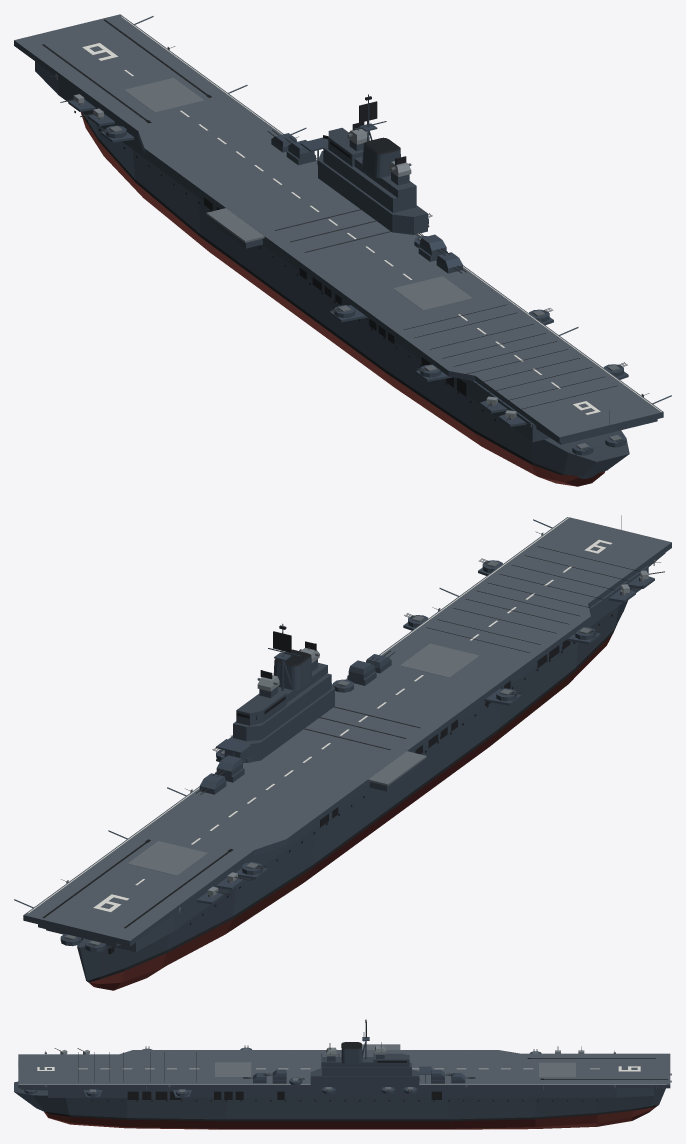
The model's file is essex.glb.
3 views of the same model, one above another, from view 1: azimuth 30°, elevation 25°; view 2: azimuth 150°, elevation 25°; view 3: azimuth 270°, elevation 25° (orthographic). The views are drawn at different scales.
Visible parts, largest first — view 1: Flight deck, Hull, Hangar, Island 1, Gallery, Island 2, Fwd lift, Aft lift, Arresting wires, Deck markings, Deck-edge lift, Hangar openings (+2 smaller); view 2: Flight deck, Hull, Hangar, Gallery, Island 1, Island 2, Fwd lift, Aft lift, Arresting wires, Deck markings, Bridge, Deck-edge lift (+2 smaller); view 3: Hull, Flight deck, Hangar, Gallery, Island 1, Deck markings, Island 2, Hangar openings, Fwd lift, Aft lift, Bridge, Flag bridge (+4 smaller).
Part boxes in pixels (box(x1,y1,x2,y2)): Flight deck: box(14, 14, 663, 439); Hull: box(80, 112, 629, 486); Hangar: box(35, 61, 549, 442); Island 1: box(318, 151, 427, 234); Gallery: box(14, 42, 663, 442); Island 2: box(323, 141, 416, 212); Fwd lift: box(124, 78, 204, 112); Aft lift: box(393, 276, 472, 310); Arresting wires: box(403, 304, 617, 410); Deck markings: box(121, 16, 661, 411); Deck-edge lift: box(206, 208, 264, 242); Hangar openings: box(204, 197, 466, 396); Flight deck: box(23, 517, 671, 943); Hull: box(77, 600, 627, 990); Hangar: box(46, 566, 648, 952); Gallery: box(23, 545, 671, 946); Island 1: box(224, 683, 334, 763); Island 2: box(233, 673, 331, 741); Fwd lift: box(128, 841, 207, 875); Aft lift: box(400, 643, 479, 677); Arresting wires: box(426, 546, 640, 652); Deck markings: box(28, 517, 571, 913); Bridge: box(236, 691, 286, 725); Deck-edge lift: box(368, 751, 426, 785); Hull: box(14, 1081, 665, 1129); Flight deck: box(18, 1050, 670, 1085); Hangar: box(48, 1088, 654, 1097); Gallery: box(18, 1086, 670, 1088); Island 1: box(310, 1068, 419, 1087); Deck markings: box(19, 1068, 666, 1084); Island 2: box(322, 1062, 411, 1075); Hangar openings: box(127, 1091, 441, 1099); Fwd lift: box(539, 1062, 575, 1077); Aft lift: box(215, 1062, 251, 1076); Bridge: box(373, 1053, 409, 1066); Flag bridge: box(321, 1057, 373, 1066).
Bounding box in the file's own units: 47.12 × 53.6 × 266.
